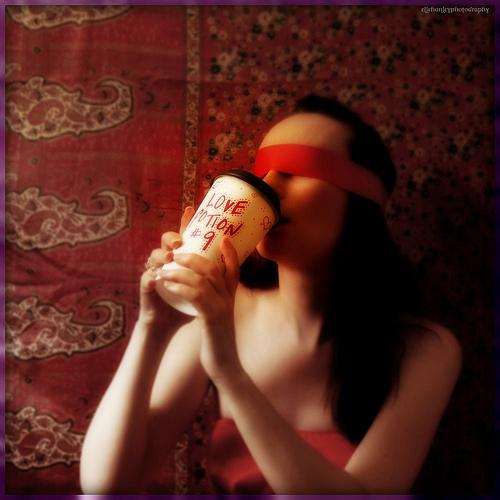person: (75, 90, 467, 500)
